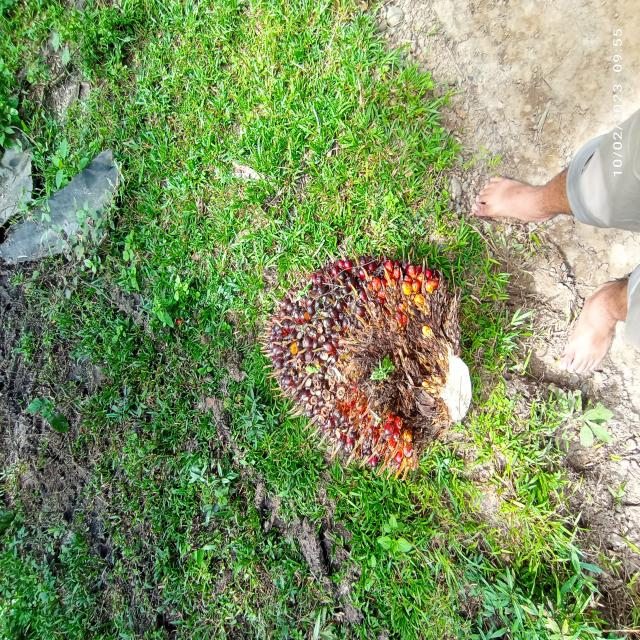fraksi 1: (245, 229, 492, 485)
